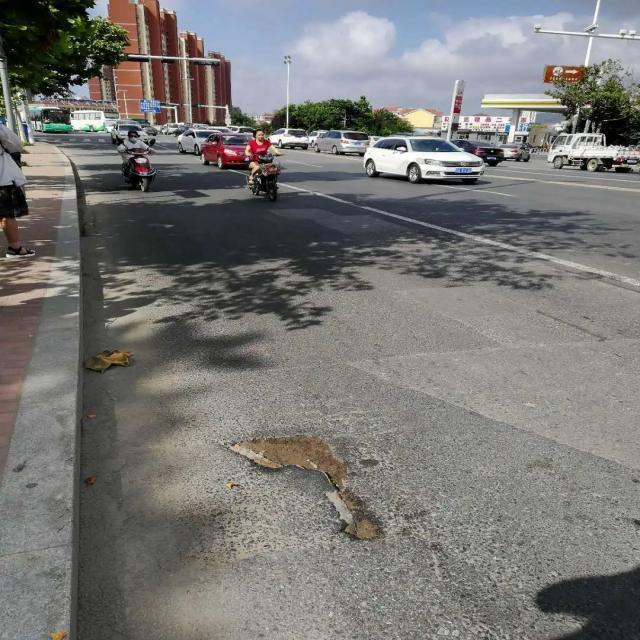pothole: (230, 434, 387, 544)
